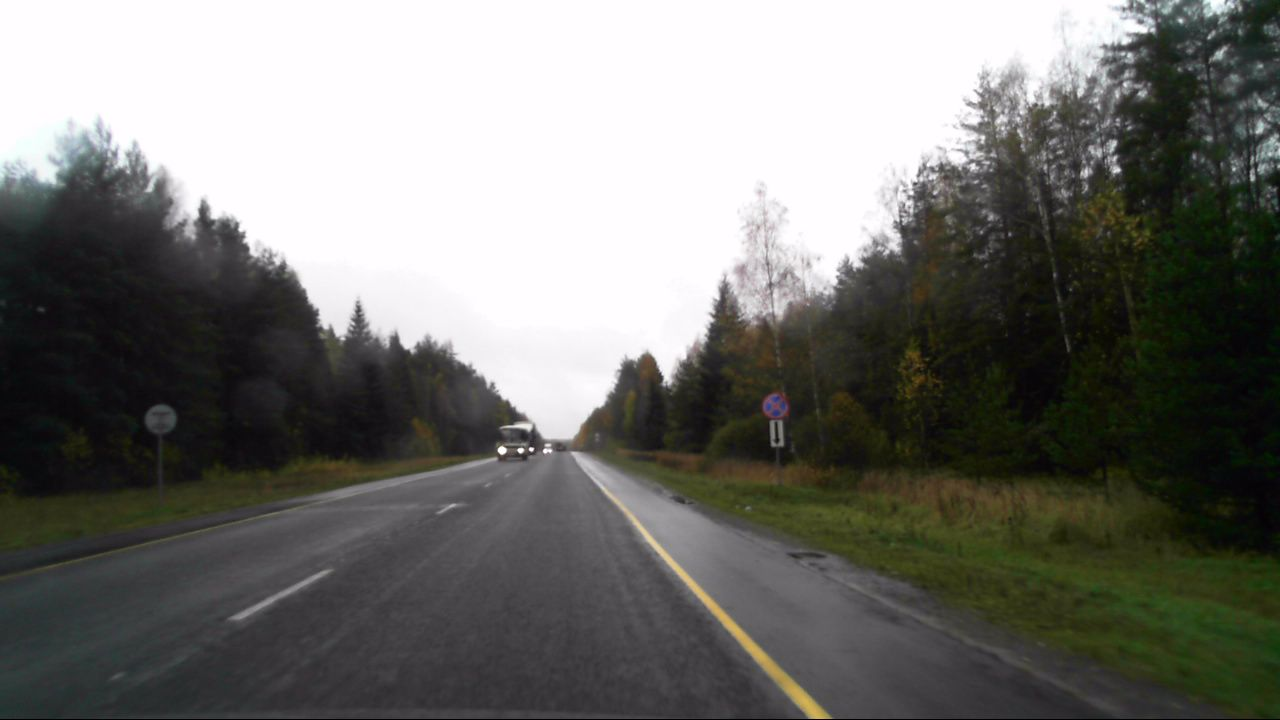No Parking: (762, 392, 787, 418)
